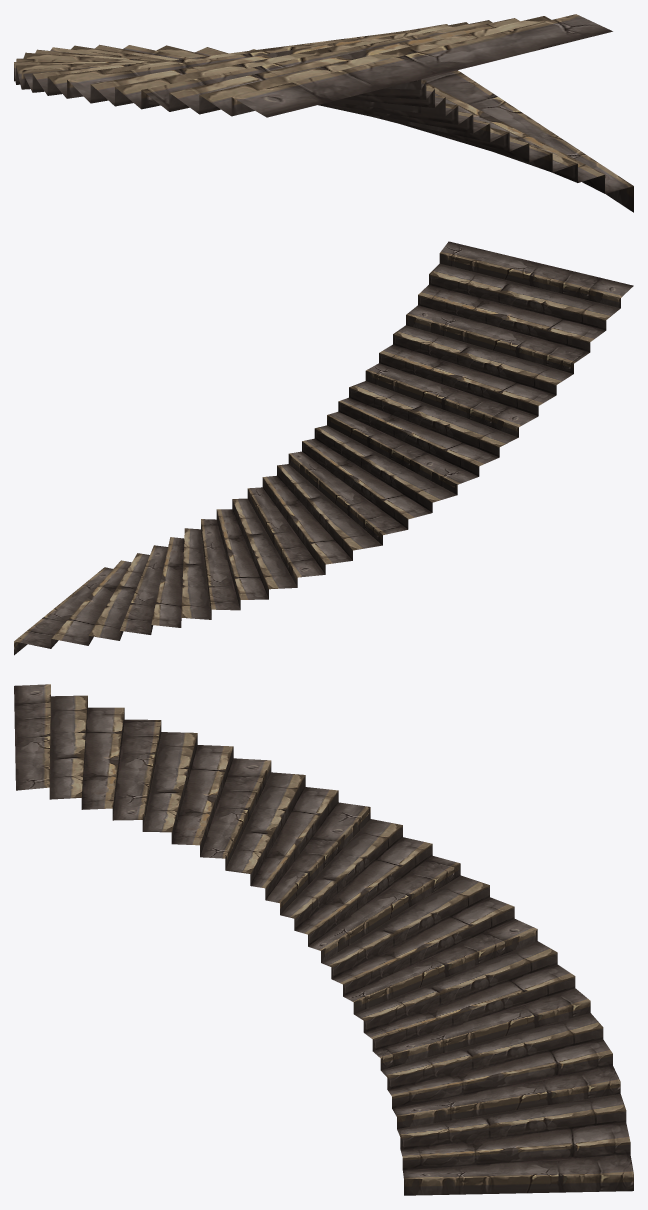
The model's file is stair_R.FBX.
3 views of the same model, one above another, from view 1: azimuth 30°, elevation 25°; view 2: azimuth 150°, elevation 25°; view 3: azimuth 270°, elevation 25° (orthographic). The views are drawn at different scales.
Visible parts, largest first — view 1: stair_R; view 2: stair_R; view 3: stair_R.
Part boxes in pixels (bbox=[...]): stair_R: bbox=[14, 14, 633, 212]; stair_R: bbox=[14, 241, 633, 655]; stair_R: bbox=[14, 684, 633, 1195].
Bounding box in the file's own units: 10.22 × 6.97 × 12.88.
